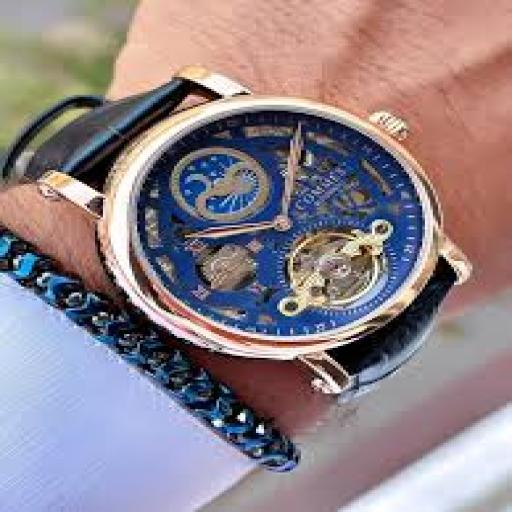KolSaati: (5, 47, 449, 403)
